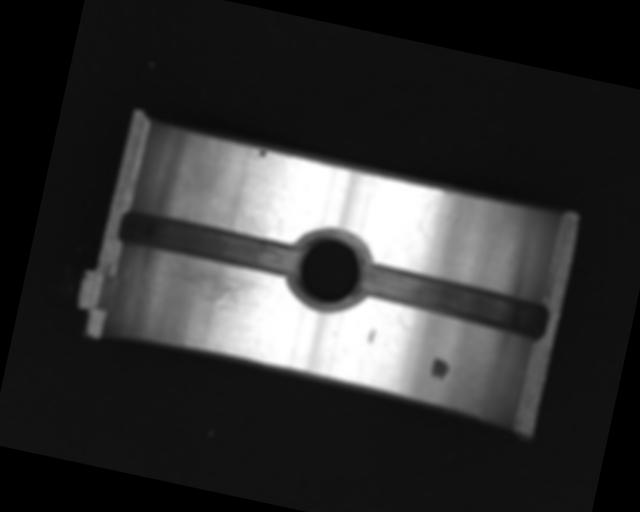blot: (428, 356, 451, 382), (253, 147, 267, 162)
bruise: (367, 327, 377, 344)
gap: (353, 262, 550, 344), (117, 208, 301, 275)
hole: (283, 222, 373, 316)
nick: (406, 210, 434, 271)
scratch: (152, 258, 275, 312)
